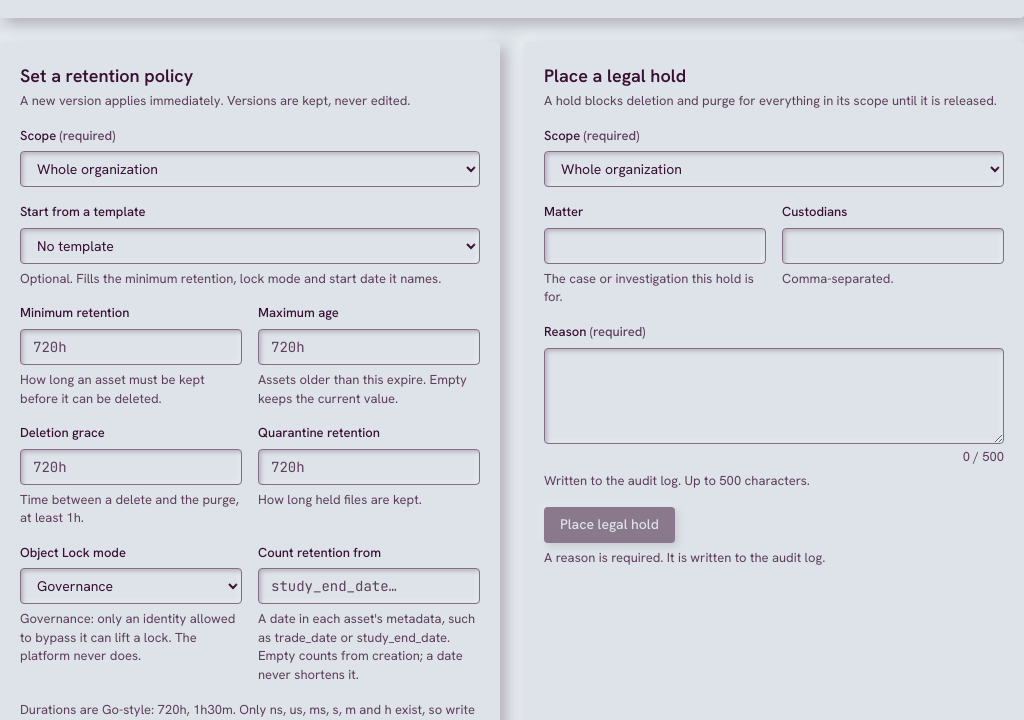
Test case: RetentionScreen › counts reason characters and enables submit once valid
The width and height of the screenshot is (1024, 720).
(page scrolled)
Type "1h 30m" into the field labelled "Minimum retention" at (131, 347), box top-left (20, 329), bottom-right (242, 365)
(page scrolled)
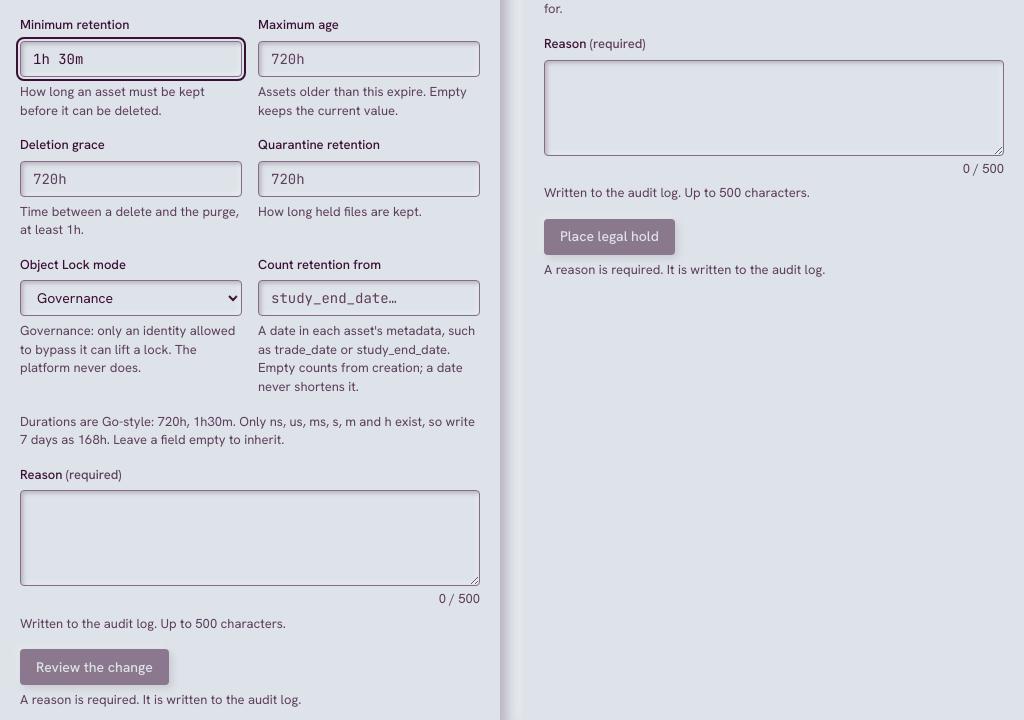
Type "audit" into the text box labelled "Reason (required)" below "Object Lock mode" at (250, 538), box top-left (20, 490), bottom-right (480, 586)
(page scrolled)
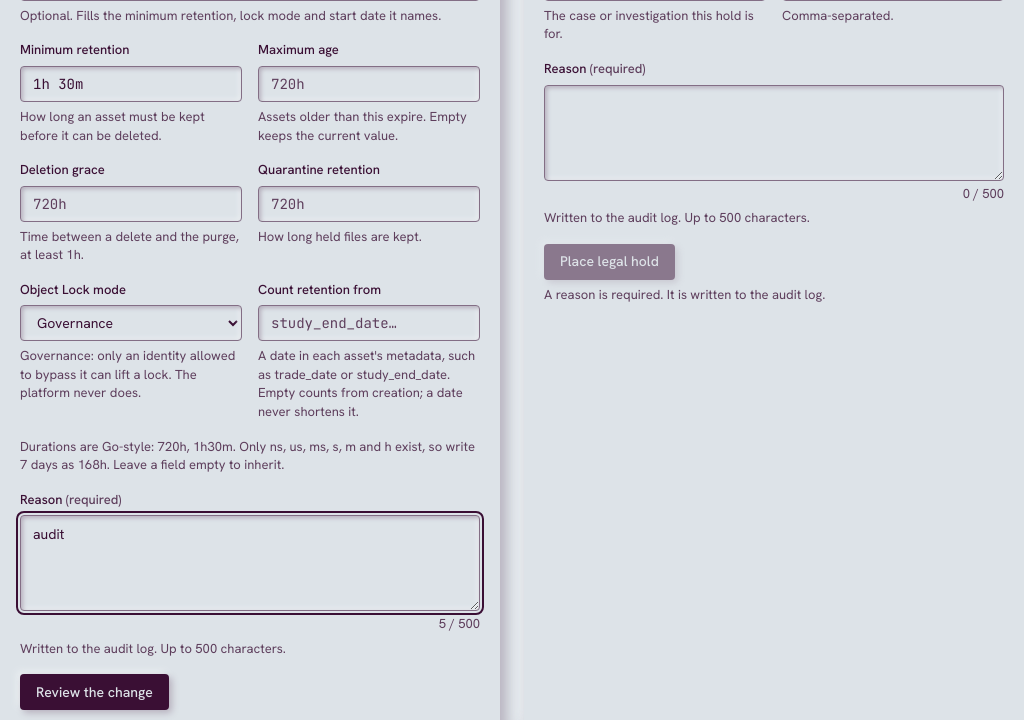
Expected: the text "5 / 500" is shown once, top-left (439, 615), bottom-right (480, 632)
Expected: the button "Review the change" is enabled, top-left (20, 674), bottom-right (169, 710)
